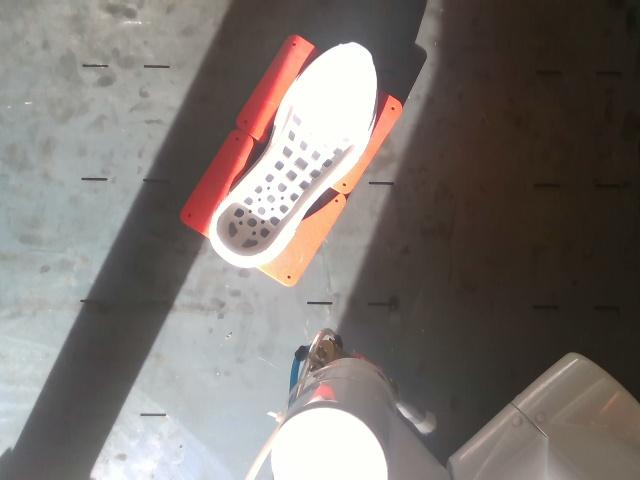shoes: (216, 44, 375, 257)
